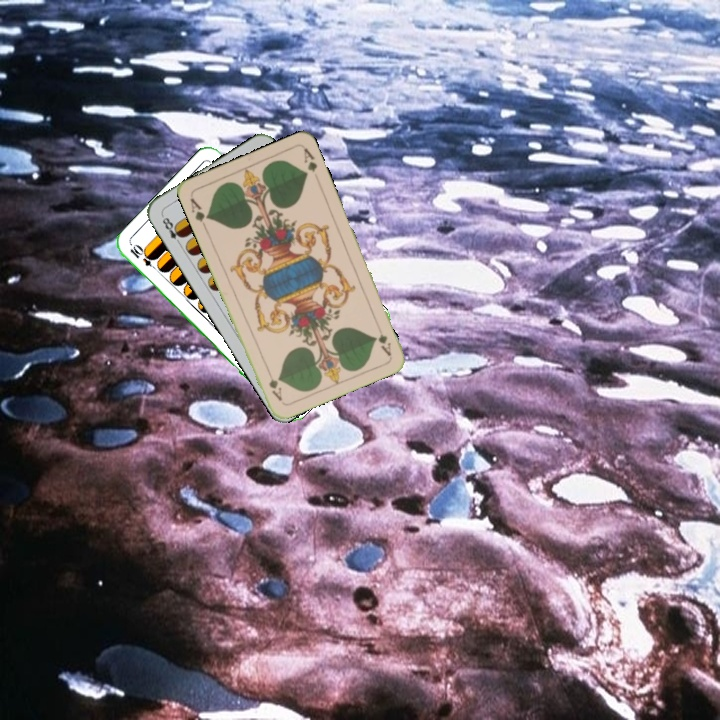E10: (126, 241, 161, 273)
E8: (158, 210, 186, 248)
GA: (186, 194, 213, 232), (374, 330, 394, 359)
